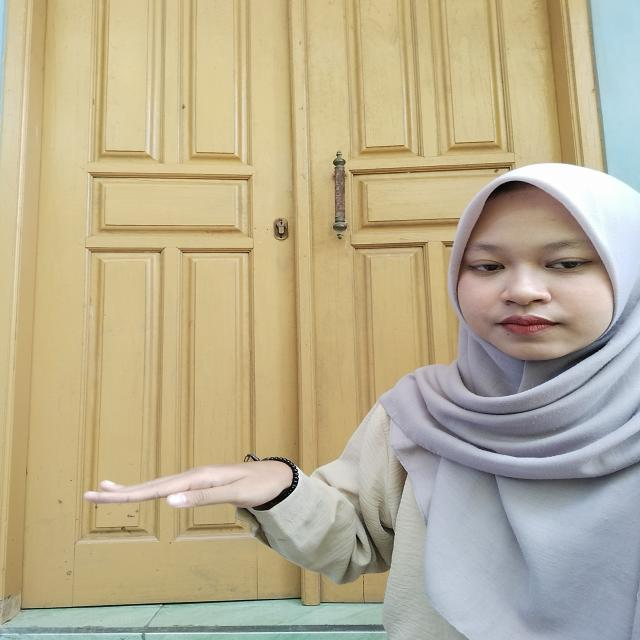adik: (78, 434, 310, 540)
